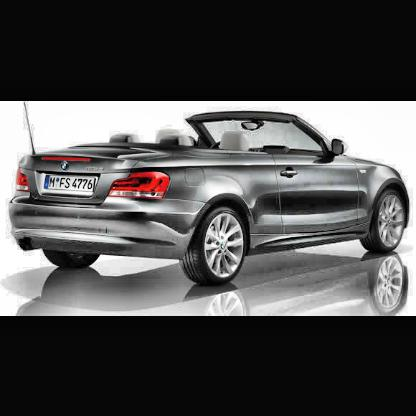BMW 1 Series Convertible 2012: (9, 101, 414, 287)
